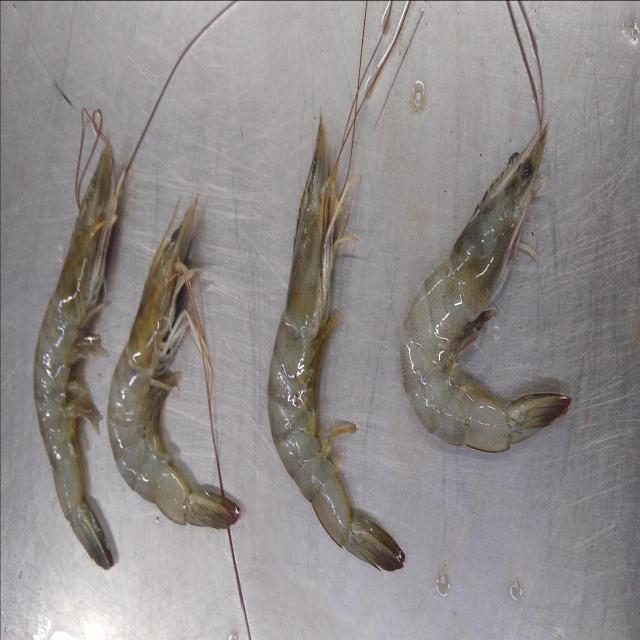shrimp: (268, 120, 405, 571), (400, 124, 570, 451), (108, 200, 240, 529), (34, 140, 124, 569)
